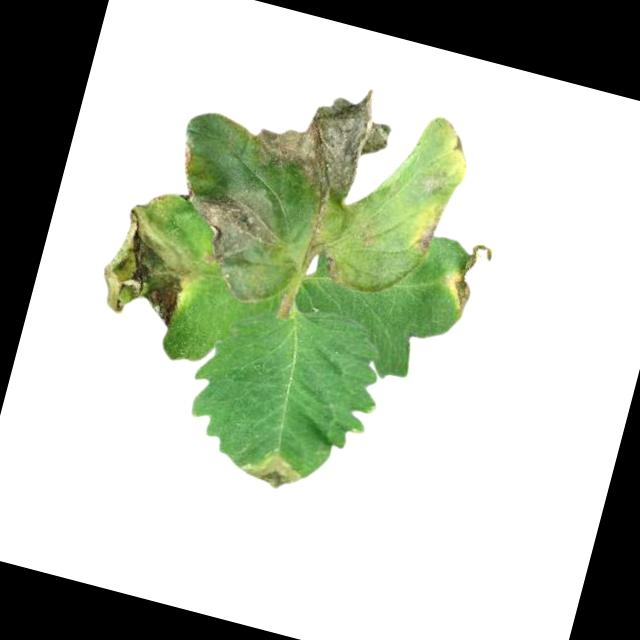Late_blight: (255, 65, 398, 211), (88, 185, 211, 329), (165, 174, 290, 305), (442, 234, 497, 316), (237, 447, 306, 496), (167, 137, 200, 187), (411, 212, 443, 259), (316, 252, 347, 285)
